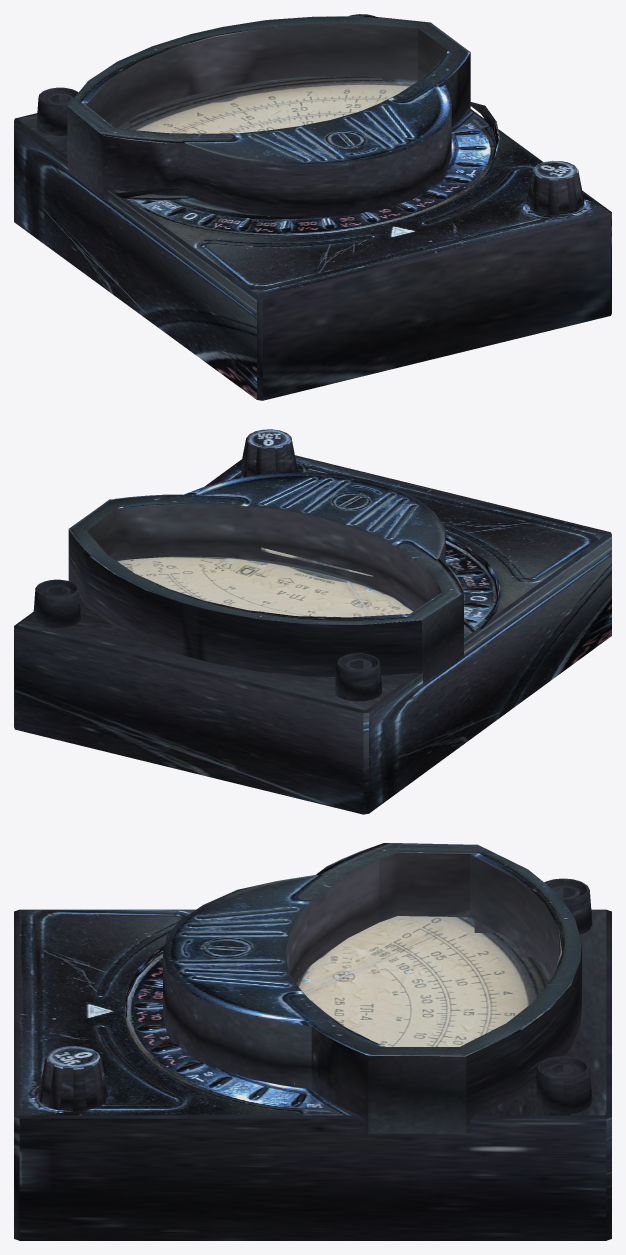
Rendered from universalus_matuoklis.glb.
3 views of the same model, one above another, from view 1: azimuth 30°, elevation 25°; view 2: azimuth 150°, elevation 25°; view 3: azimuth 270°, elevation 25° (orthographic). The views are drawn at different scales.
Parts seen in each view (by area): view 1: Cube; view 2: Cube; view 3: Cube.
Boxes of the visible parts, x1,y1,x2,y2 form: Cube: [14, 14, 611, 400]; Cube: [14, 429, 611, 814]; Cube: [14, 843, 611, 1240].
Size of the model in its own units: 4.61 by 1.87 by 5.37.
Materials: 2 (1 with a texture image).
